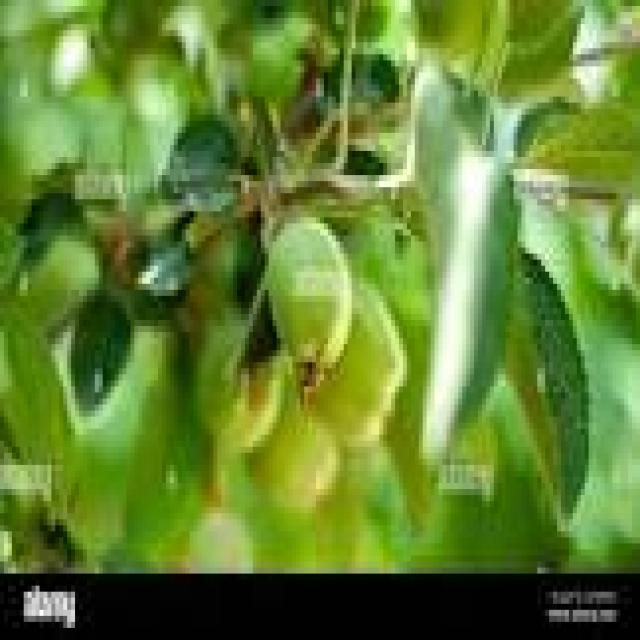apple: (308, 278, 403, 447), (265, 217, 348, 374), (253, 374, 336, 507), (217, 356, 280, 447)
